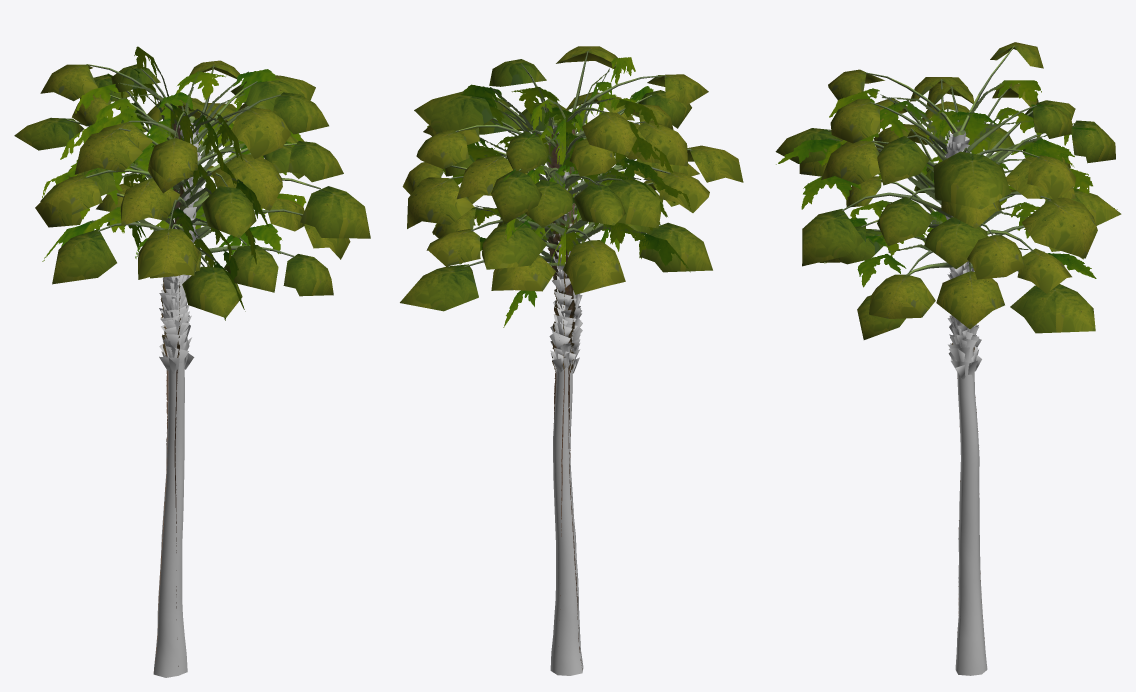
The model's file is Papaya1.fbx.
3 renders of one model, left to right at view 1: azimuth 30°, elevation 25°; view 2: azimuth 150°, elevation 25°; view 3: azimuth 270°, elevation 25°, orthographic. The views are drawn at different scales.
Parts seen in each view (by area): view 1: LOD0, Billboard; view 2: LOD0, Billboard; view 3: LOD0, Billboard.
Boxes of the visible parts, x1,y1,x2,y2 form: LOD0: [14, 60, 370, 677]; Billboard: [42, 46, 312, 672]; LOD0: [400, 46, 743, 675]; Billboard: [424, 57, 691, 669]; LOD0: [775, 42, 1121, 675]; Billboard: [776, 80, 1117, 638].
Size of what is drawn, in the model's own units: 393 by 783 by 417.
